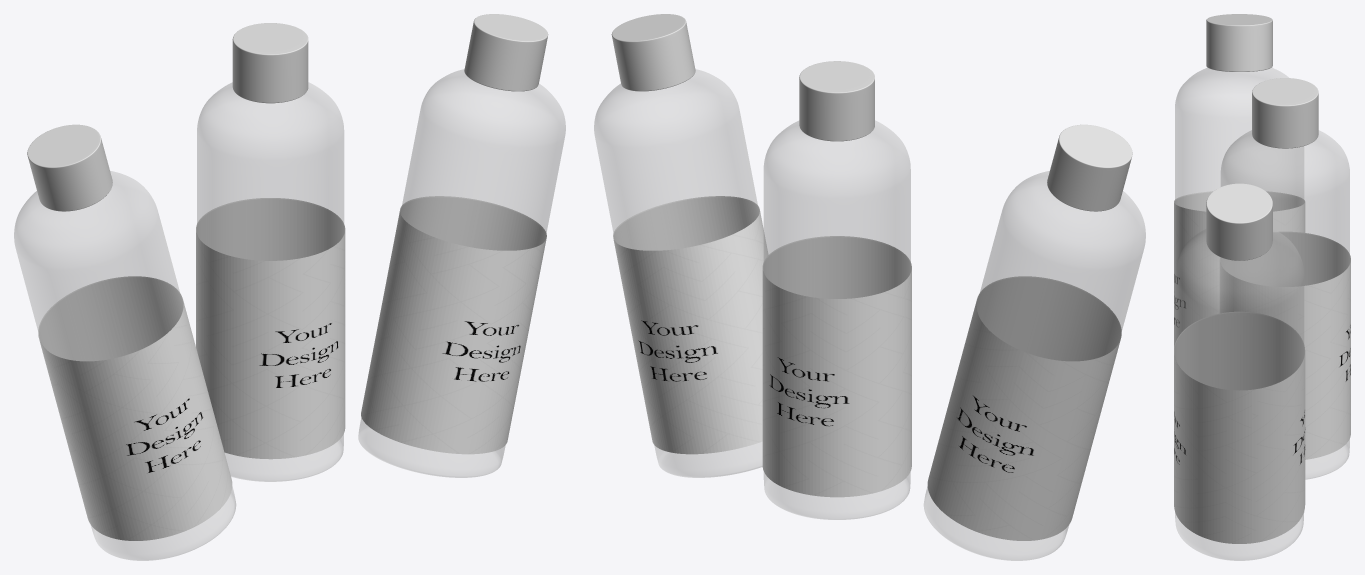
File: Glass_Bottle-A5.glb
The picture shows the model from 3 angles, left to right: view 1: azimuth 30°, elevation 25°; view 2: azimuth 150°, elevation 25°; view 3: azimuth 270°, elevation 25°; orthographic projection. The views are drawn at different scales.
Visible parts, largest first — view 1: Circle.011, Circle.005, Circle.007, Circle.010, Circle.006, Circle.004, Circle.008, Circle.001, Circle.002, Circle.003, Circle.012, Circle.009; view 2: Circle.005, Circle.007, Circle.011, Circle.004, Circle.006, Circle.010, Circle.008, Circle.001, Circle.002, Circle.003, Circle.012, Circle.009; view 3: Circle.011, Circle.010, Circle.004, Circle.006, Circle.005, Circle.012, Circle.007, Circle.001, Circle.009, Circle.003, Circle.002, Circle.008.
Part boxes in pixels (x1,y1,x2,y2): Circle.011: (361, 196, 546, 454); Circle.005: (196, 198, 345, 459); Circle.007: (38, 276, 232, 540); Circle.010: (358, 69, 565, 477); Circle.006: (14, 171, 235, 560); Circle.004: (197, 82, 343, 481); Circle.008: (39, 277, 183, 361); Circle.001: (196, 199, 344, 260); Circle.002: (27, 124, 112, 211); Circle.003: (232, 23, 308, 103); Circle.012: (400, 197, 545, 250); Circle.009: (464, 14, 548, 91); Circle.005: (762, 236, 911, 497); Circle.007: (927, 276, 1121, 540); Circle.011: (613, 196, 768, 454); Circle.004: (764, 120, 910, 519); Circle.006: (924, 171, 1145, 560); Circle.010: (594, 69, 762, 477); Circle.008: (976, 277, 1120, 361); Circle.001: (763, 237, 911, 298); Circle.002: (1047, 124, 1132, 211); Circle.003: (799, 61, 874, 141); Circle.012: (614, 197, 759, 250); Circle.009: (611, 14, 695, 91); Circle.011: (1174, 311, 1305, 543); Circle.010: (1175, 229, 1303, 560); Circle.004: (1221, 130, 1349, 479); Circle.006: (1175, 68, 1303, 211); Circle.005: (1219, 231, 1350, 459); Circle.012: (1174, 312, 1304, 390); Circle.007: (1174, 191, 1305, 348); Circle.001: (1220, 232, 1350, 286); Circle.009: (1206, 183, 1272, 260); Circle.003: (1252, 78, 1318, 148); Circle.002: (1206, 14, 1272, 71); Circle.008: (1174, 192, 1304, 211).
Bounding box in the file's own units: 8.29 × 6.66 × 2.72.
4 materials, 1 textured.
